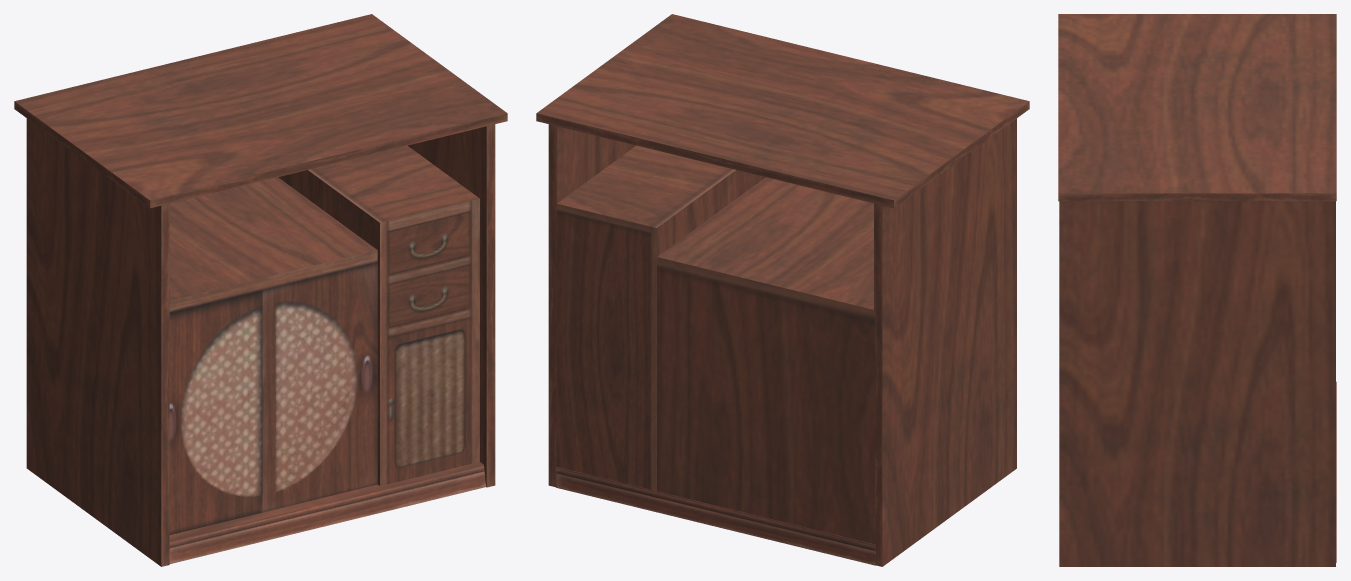
The model's file is Shelf01.fbx.
3 renders of one model, left to right at view 1: azimuth 30°, elevation 25°; view 2: azimuth 150°, elevation 25°; view 3: azimuth 270°, elevation 25°, orthographic. The views are drawn at different scales.
Visible parts, largest first — view 1: Shelf01; view 2: Shelf01; view 3: Shelf01.
Part boxes in pixels (bbox=[...]): Shelf01: bbox=[14, 14, 507, 566]; Shelf01: bbox=[536, 14, 1029, 566]; Shelf01: bbox=[1058, 14, 1336, 566].
Bounding box in the file's own units: 104 × 103 × 68.47.
